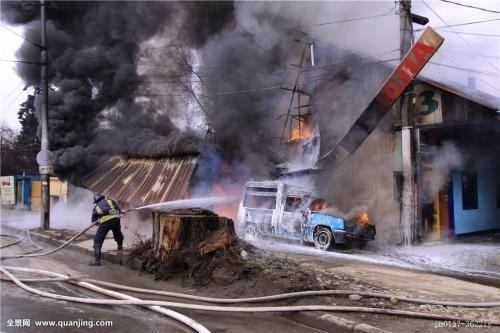fire: (289, 118, 314, 141)
